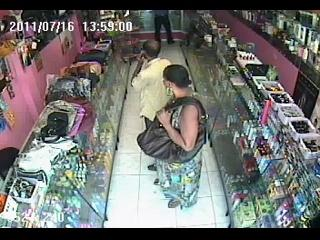Normal: (152, 64, 208, 210), (131, 40, 172, 130), (136, 117, 180, 164), (150, 10, 176, 44), (75, 50, 108, 65)
